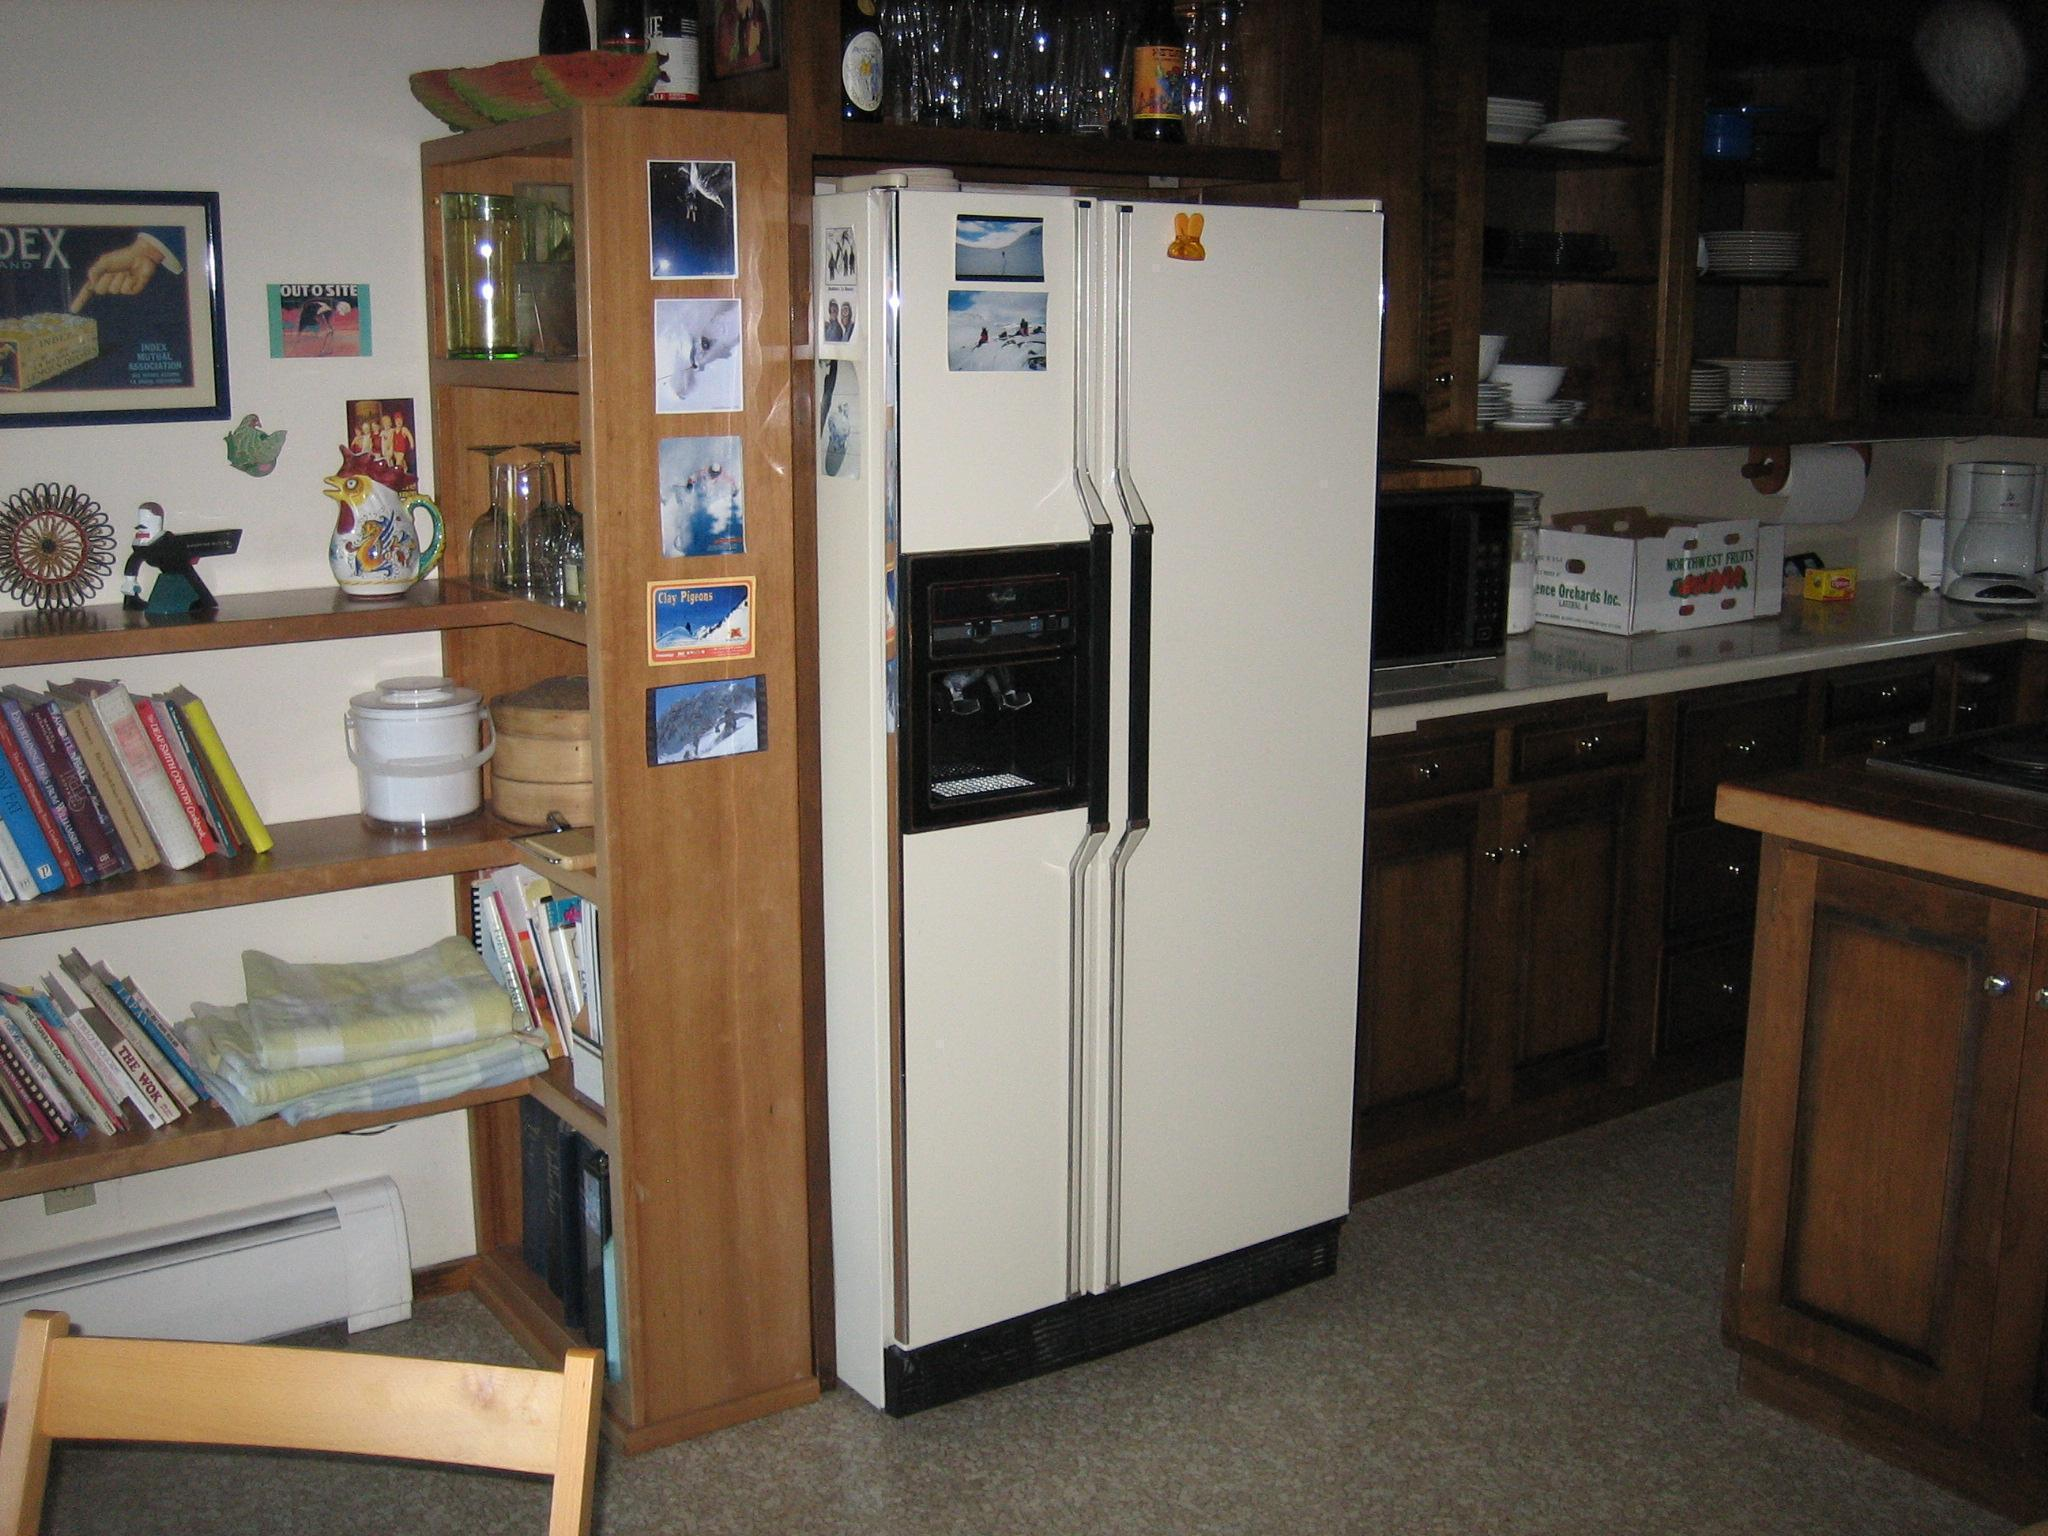Electrodomestico: (823, 190, 1337, 1295)
